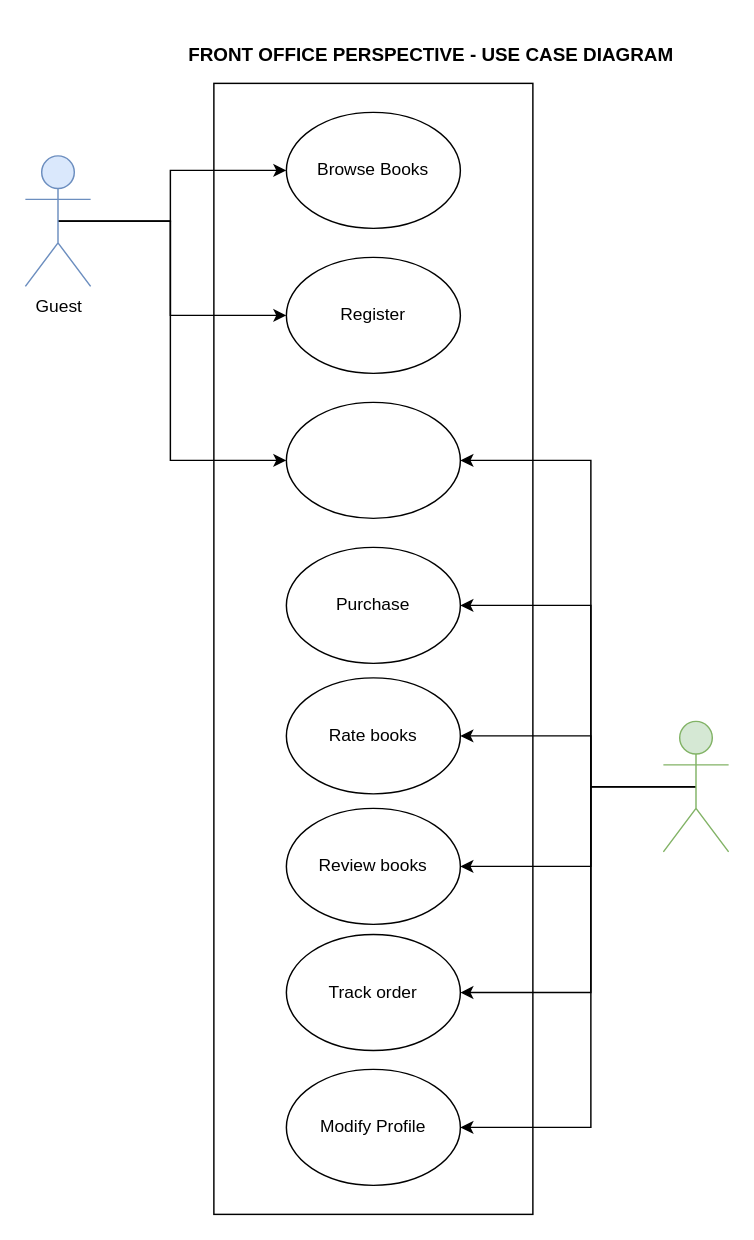
The diagram is 754 pixels wide and 1240 high, and some of its shapes have lost their labels. Each missing label, with the centre of its shape:
"Login" goes at pixel 372 459.
"Member" goes at pixel 695 786.
